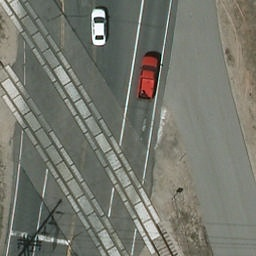car: (92, 9, 106, 47)
pickup: (137, 55, 158, 100)
